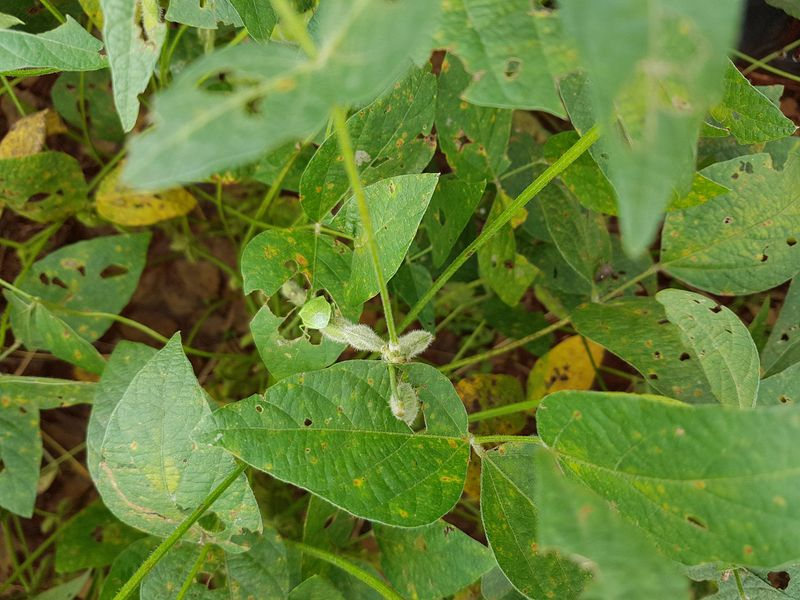Euschistus_heros_adulto: (588, 255, 621, 288)
Nezara_viridula_adulto: (282, 285, 345, 345)
